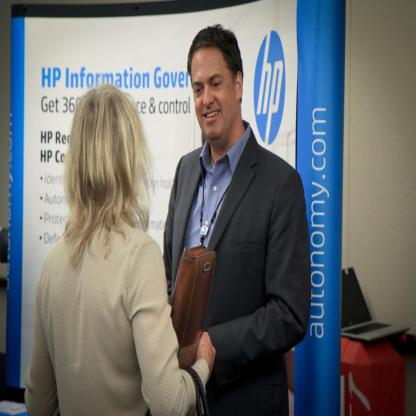board: (342, 267, 409, 345)
